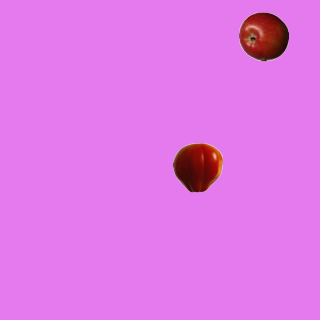Apple Braeburn: (238, 11, 288, 61)
Tomato 1: (172, 142, 222, 192)
